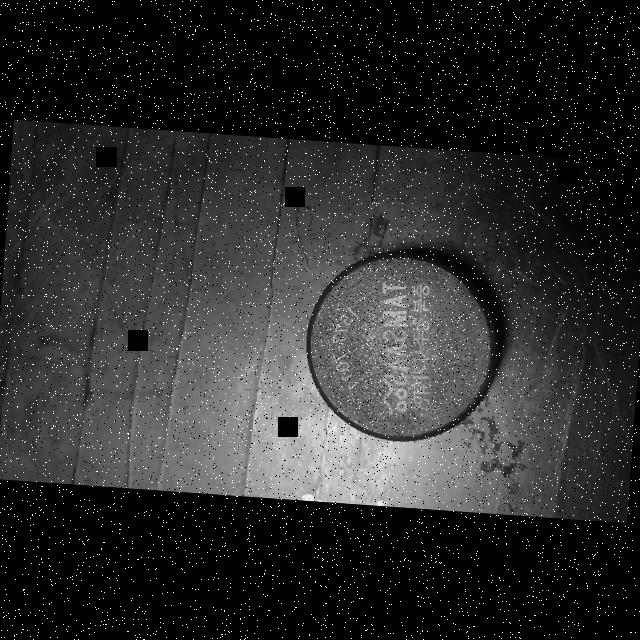plastic_bottle_cap: (294, 241, 506, 448)
